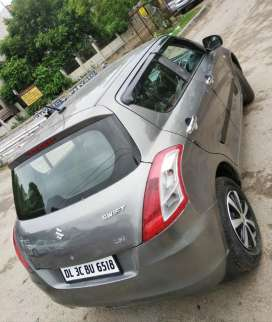license_plate: (63, 256, 118, 285)
